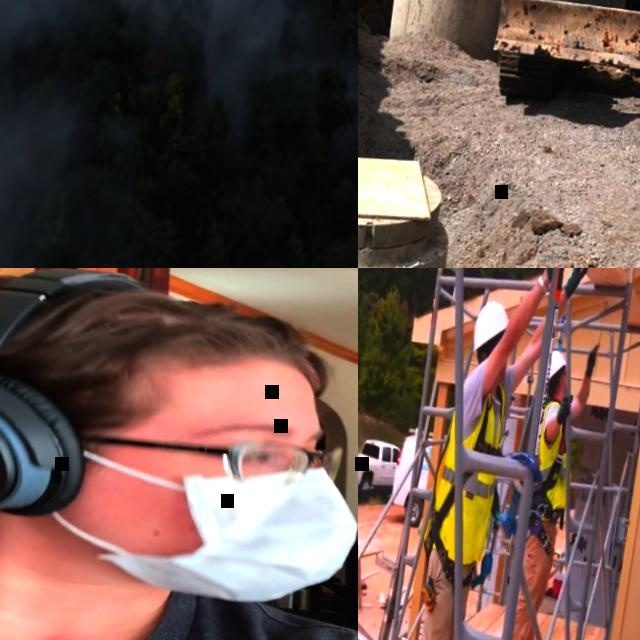Hardhat: (471, 300, 512, 356), (550, 349, 568, 379)
Mask: (42, 431, 358, 623)
NO-Hardhat: (0, 268, 357, 452)
NO-Safety Vest: (0, 537, 358, 640)
Person: (0, 268, 358, 640), (377, 268, 593, 640), (500, 338, 601, 640)
Safety Vest: (420, 374, 510, 567), (529, 400, 582, 521)
machinery: (466, 0, 640, 268)
vehicle: (386, 427, 453, 531), (358, 434, 400, 497)
